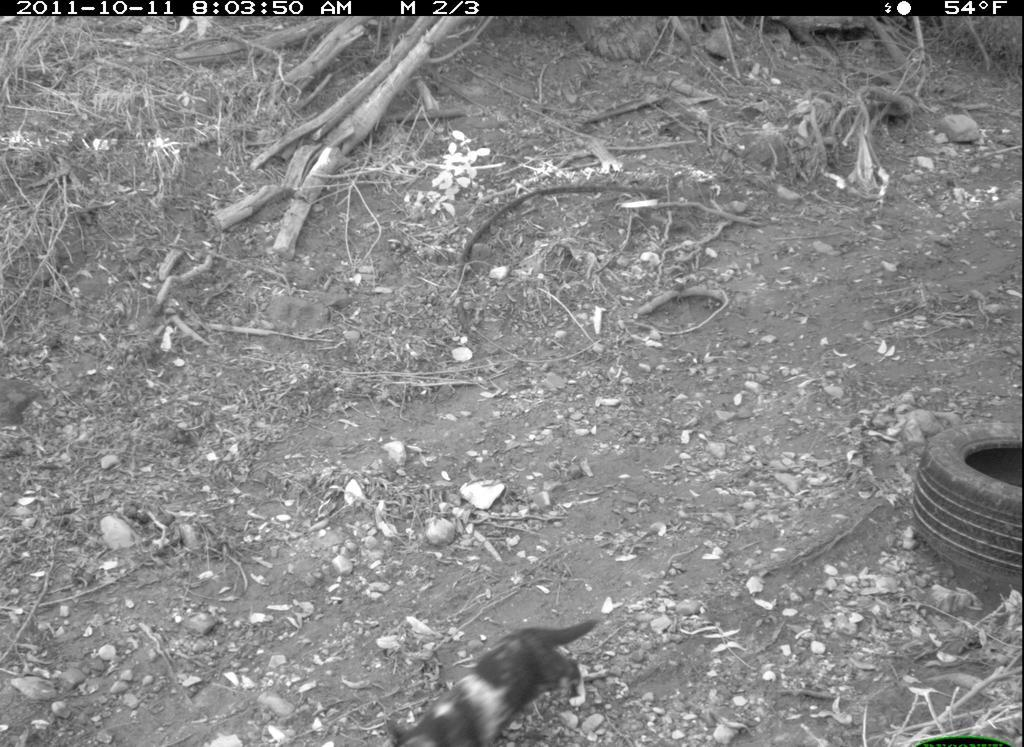cat: (370, 602, 615, 747)
